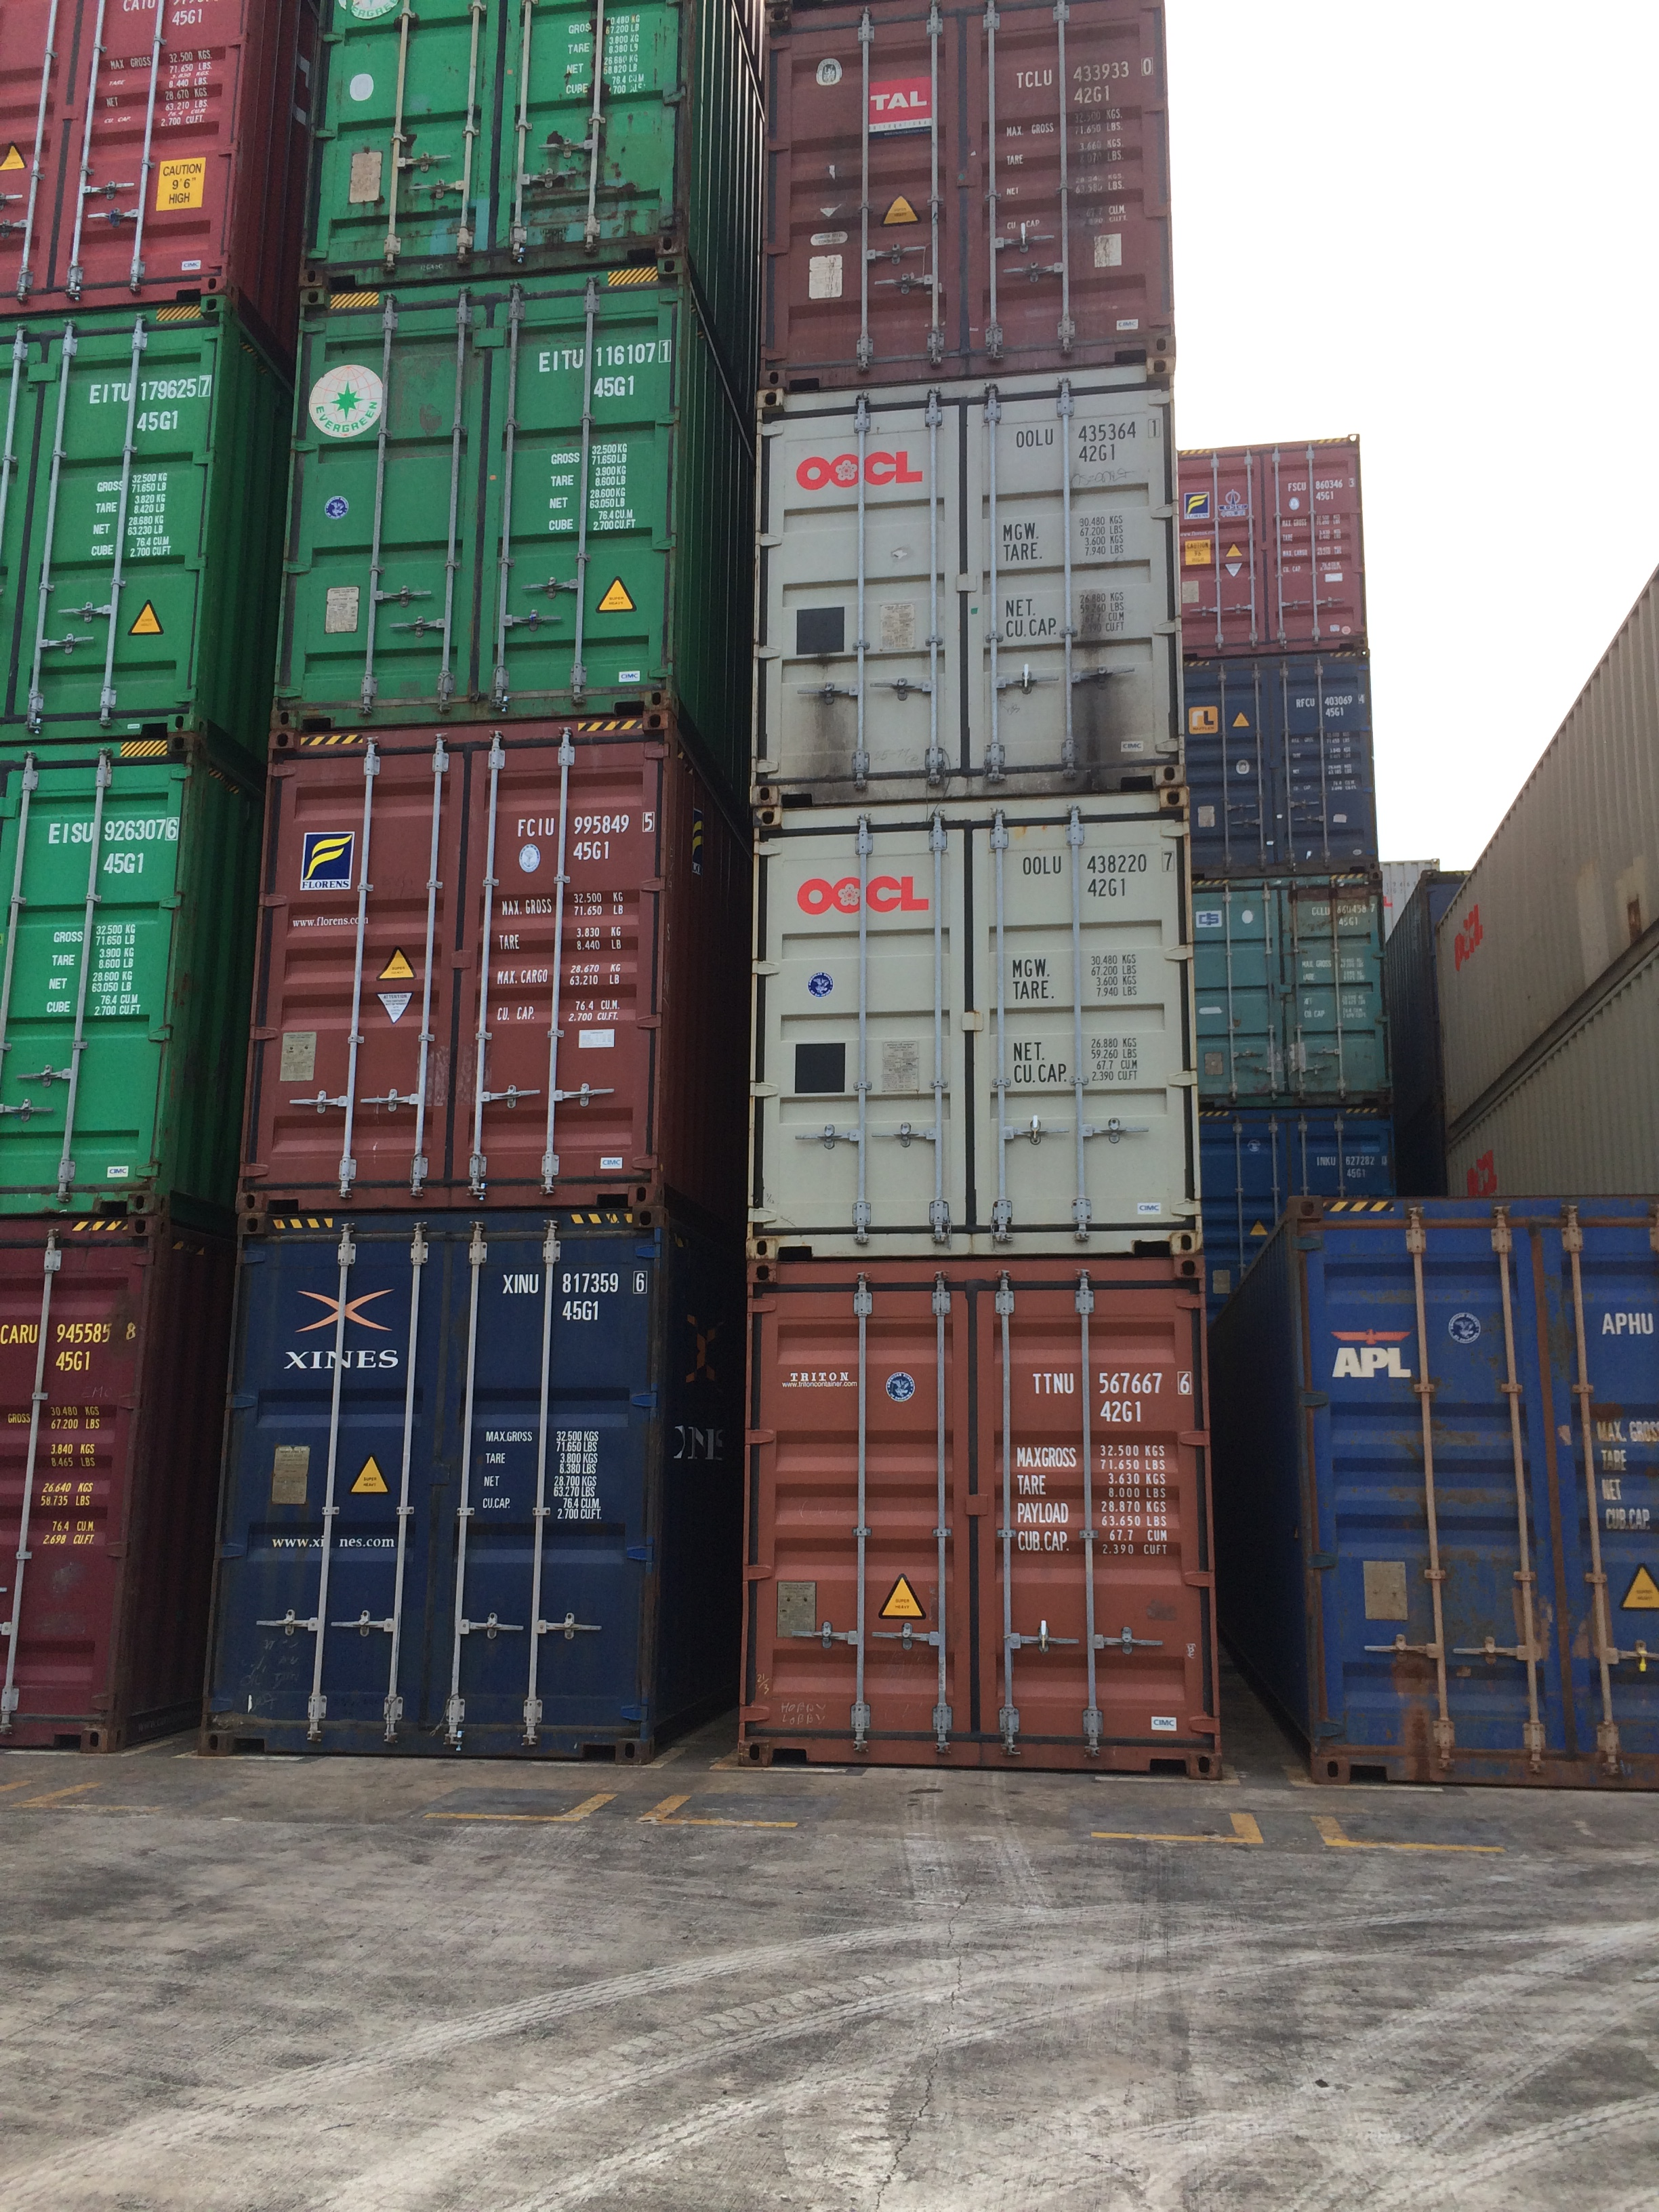container_door: (197, 1217, 666, 1763), (744, 1259, 1213, 1785), (1288, 1188, 1659, 1791), (234, 732, 674, 1207), (739, 806, 1204, 1252), (744, 369, 1183, 820), (260, 275, 697, 726), (756, 0, 1168, 368), (314, 0, 674, 272), (0, 312, 223, 733), (0, 758, 206, 1211), (0, 0, 228, 303), (1194, 885, 1380, 1115), (1187, 644, 1371, 874), (1183, 434, 1361, 646)
